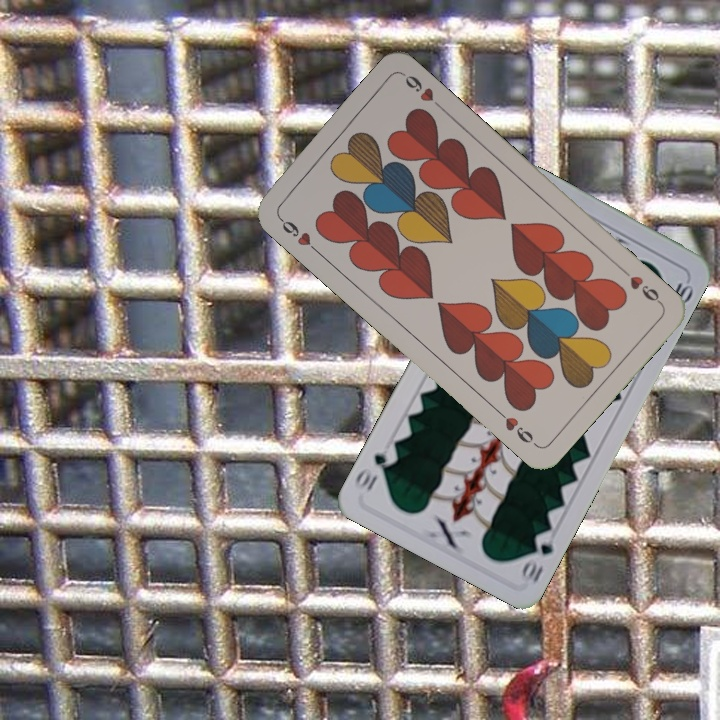G10: (517, 526, 558, 587)
H9: (274, 212, 322, 256), (616, 264, 665, 307)
